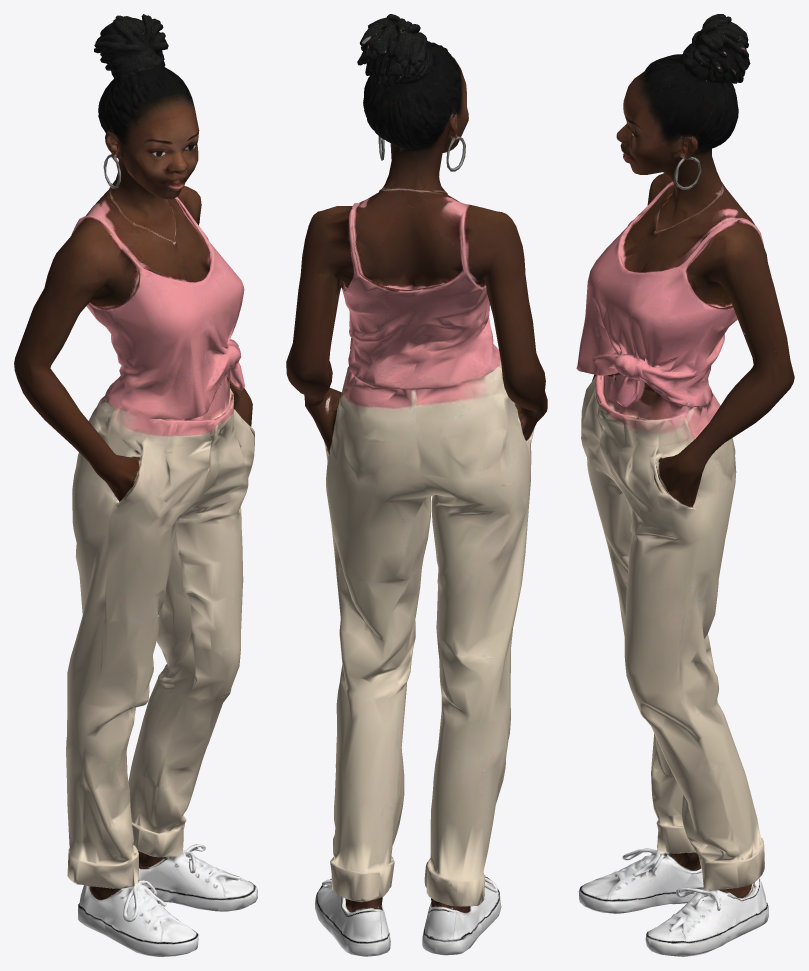
File: bermuda-npc-female.glb
3 renders of one model, left to right at view 1: azimuth 30°, elevation 25°; view 2: azimuth 150°, elevation 25°; view 3: azimuth 270°, elevation 25°, orthographic. The views are drawn at different scales.
Size of the model in its own units: 0.5056 by 1.9 by 0.4218.
Materials: 1 (1 with a texture image).
